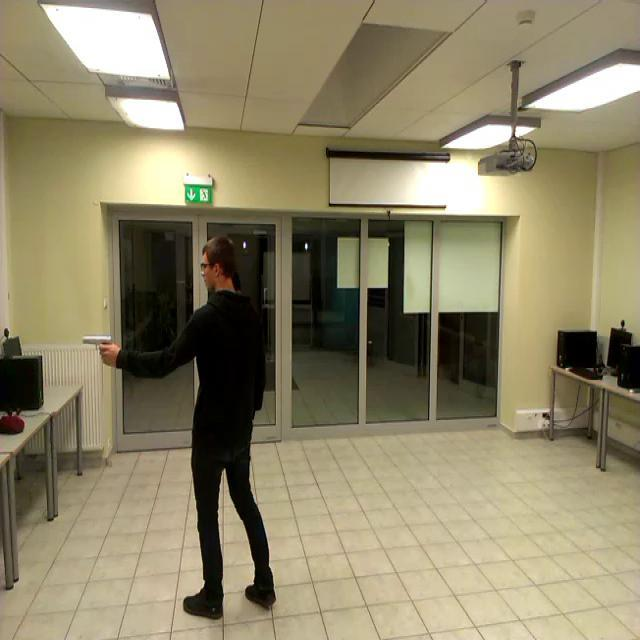Gun: (83, 334, 114, 362)
